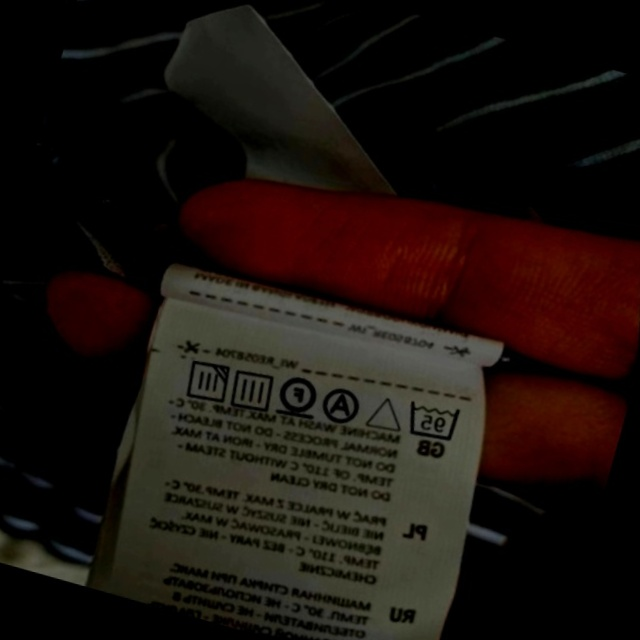95C: (388, 380, 477, 461)
bleach: (352, 378, 419, 447)
drip_dry: (214, 352, 291, 428)
drip_dry_in_shade: (166, 342, 245, 421)
dry_clean: (309, 372, 376, 439)
dry_clean_petrol_only: (260, 357, 334, 434)
